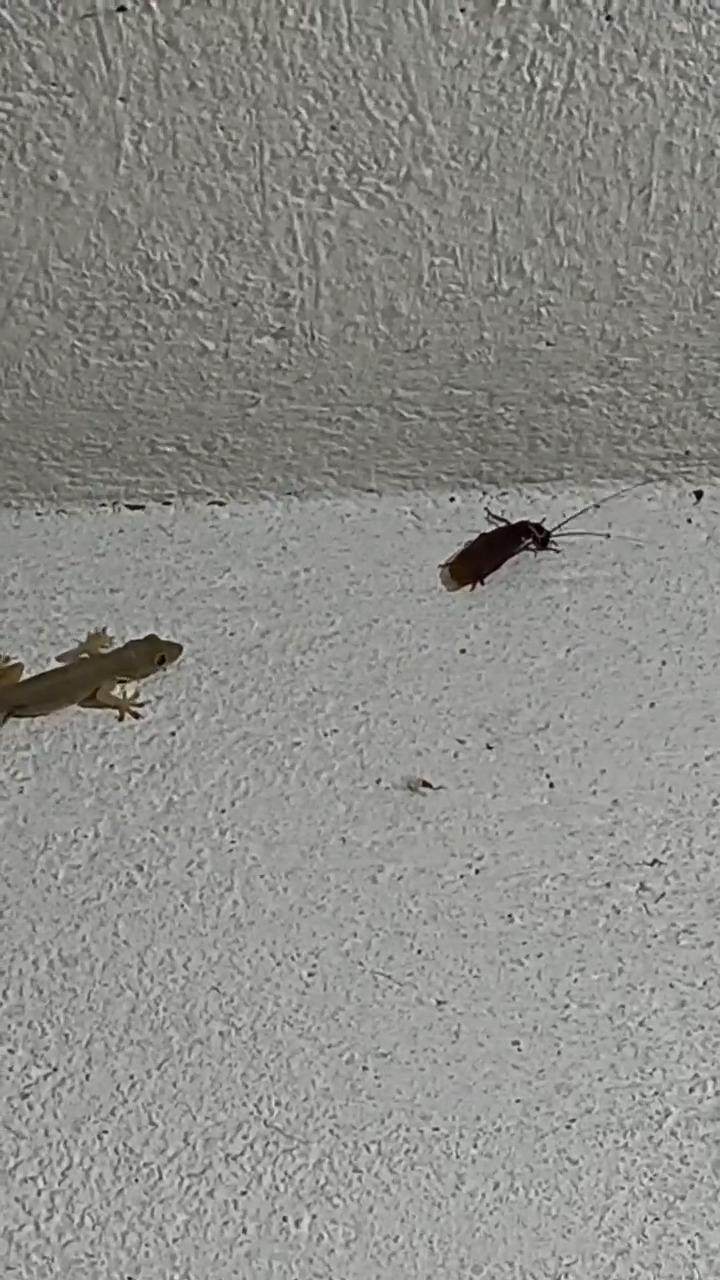cockroach: (428, 503, 653, 590)
lizard: (0, 620, 199, 726)
